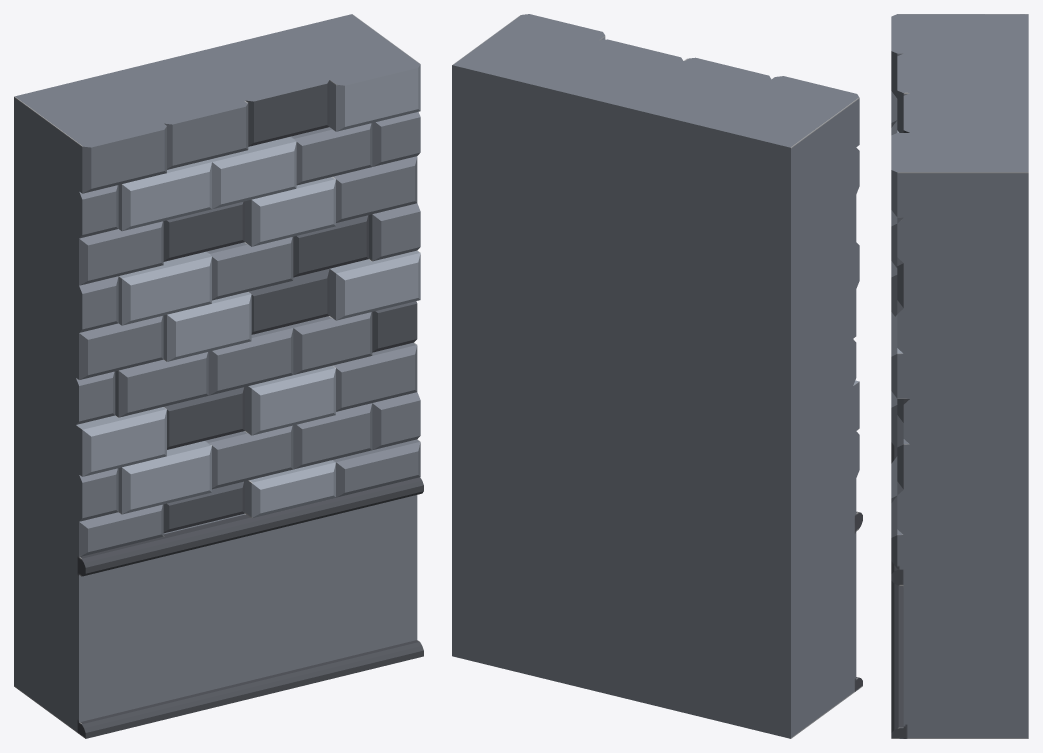
File: HorzStart.fbx
3 views of the same model, side by side, from view 1: azimuth 30°, elevation 25°; view 2: azimuth 150°, elevation 25°; view 3: azimuth 270°, elevation 25° (orthographic). The views are drawn at different scales.
Visible parts, largest first — view 1: HorzFiller.087; view 2: HorzFiller.087; view 3: HorzFiller.087.
Boxes of the visible parts, bbox=[...] form: HorzFiller.087: bbox=[14, 14, 423, 738]; HorzFiller.087: bbox=[452, 14, 862, 738]; HorzFiller.087: bbox=[891, 14, 1028, 738].
Bounding box in the file's own units: 600 × 1000 × 220.
